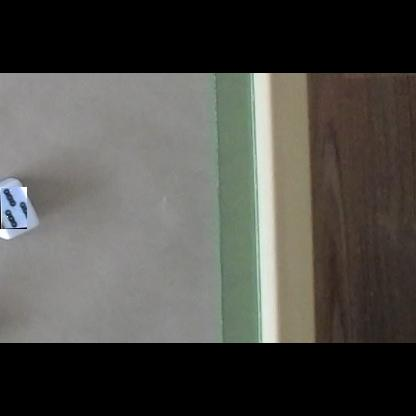3s: (0, 187, 27, 229)
